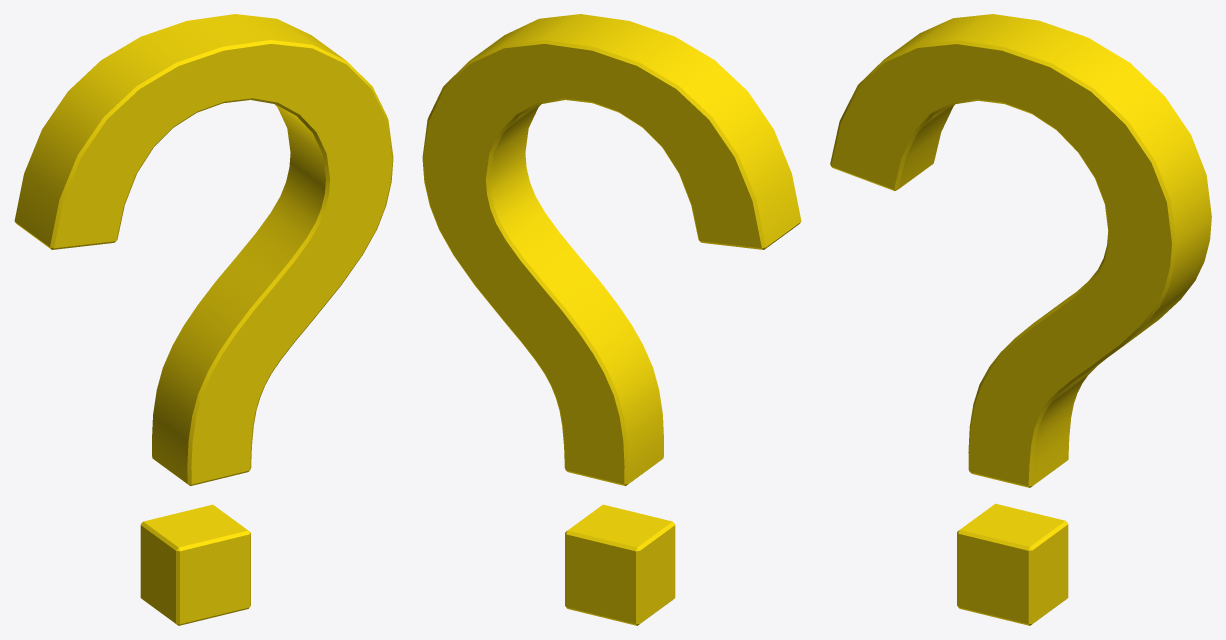
3 views of the same model, side by side, from view 1: azimuth 30°, elevation 25°; view 2: azimuth 150°, elevation 25°; view 3: azimuth 330°, elevation 25° (orthographic).
Visible parts, largest first — view 1: questionmark:questionmark_msh_questionmark:questionmarkmat1_; view 2: questionmark:questionmark_msh_questionmark:questionmarkmat1_; view 3: questionmark:questionmark_msh_questionmark:questionmarkmat1_.
Boxes of the visible parts, x1,y1,x2,y2 form: questionmark:questionmark_msh_questionmark:questionmarkmat1_: (14, 14, 393, 625); questionmark:questionmark_msh_questionmark:questionmarkmat1_: (422, 14, 801, 625); questionmark:questionmark_msh_questionmark:questionmarkmat1_: (830, 14, 1211, 625).
Size of the model in its own units: 41.23 by 65.2 by 8.
